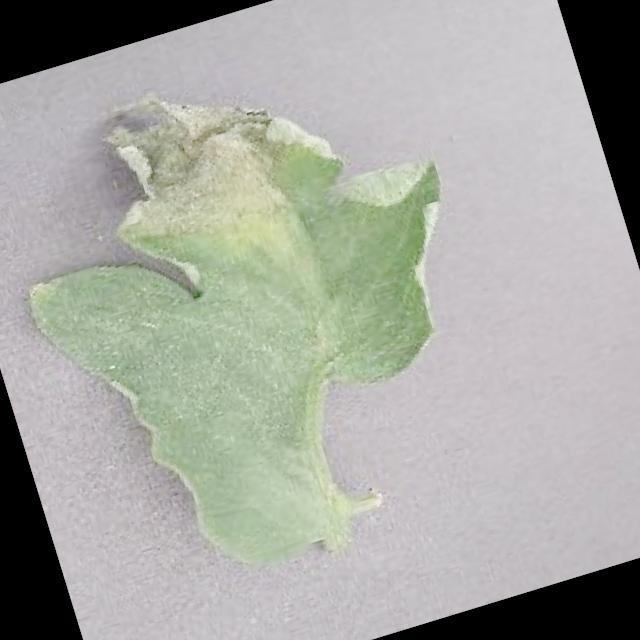Tomato late blight leaf: (0, 20, 538, 619)
